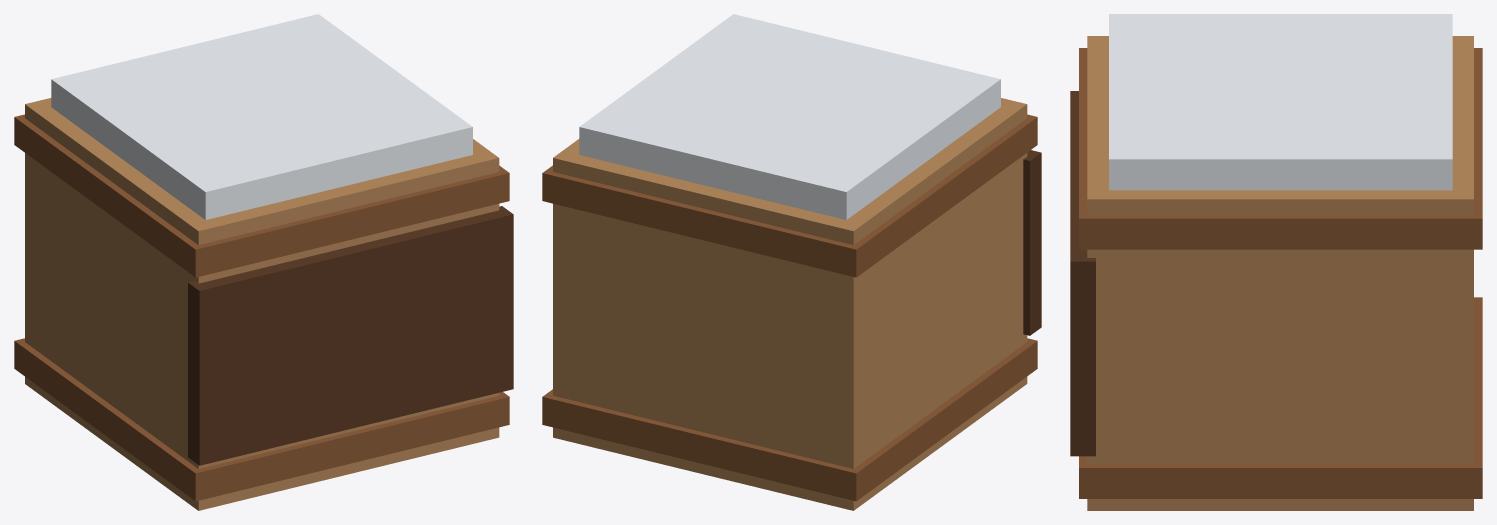
File: prop_crate.glb
3 renders of one model, left to right at view 1: azimuth 30°, elevation 25°; view 2: azimuth 150°, elevation 25°; view 3: azimuth 270°, elevation 25°, orthographic. The views are drawn at different scales.
Parts seen in each view (by area): view 1: prop_crate; view 2: prop_crate; view 3: prop_crate.
Part boxes in pixels (bbox=[...]): prop_crate: bbox=[14, 14, 513, 510]; prop_crate: bbox=[542, 14, 1041, 510]; prop_crate: bbox=[1070, 14, 1482, 510].
Bounding box in the file's own units: 0.94 × 0.88 × 0.96.
Materials: 1 (1 with a texture image).
